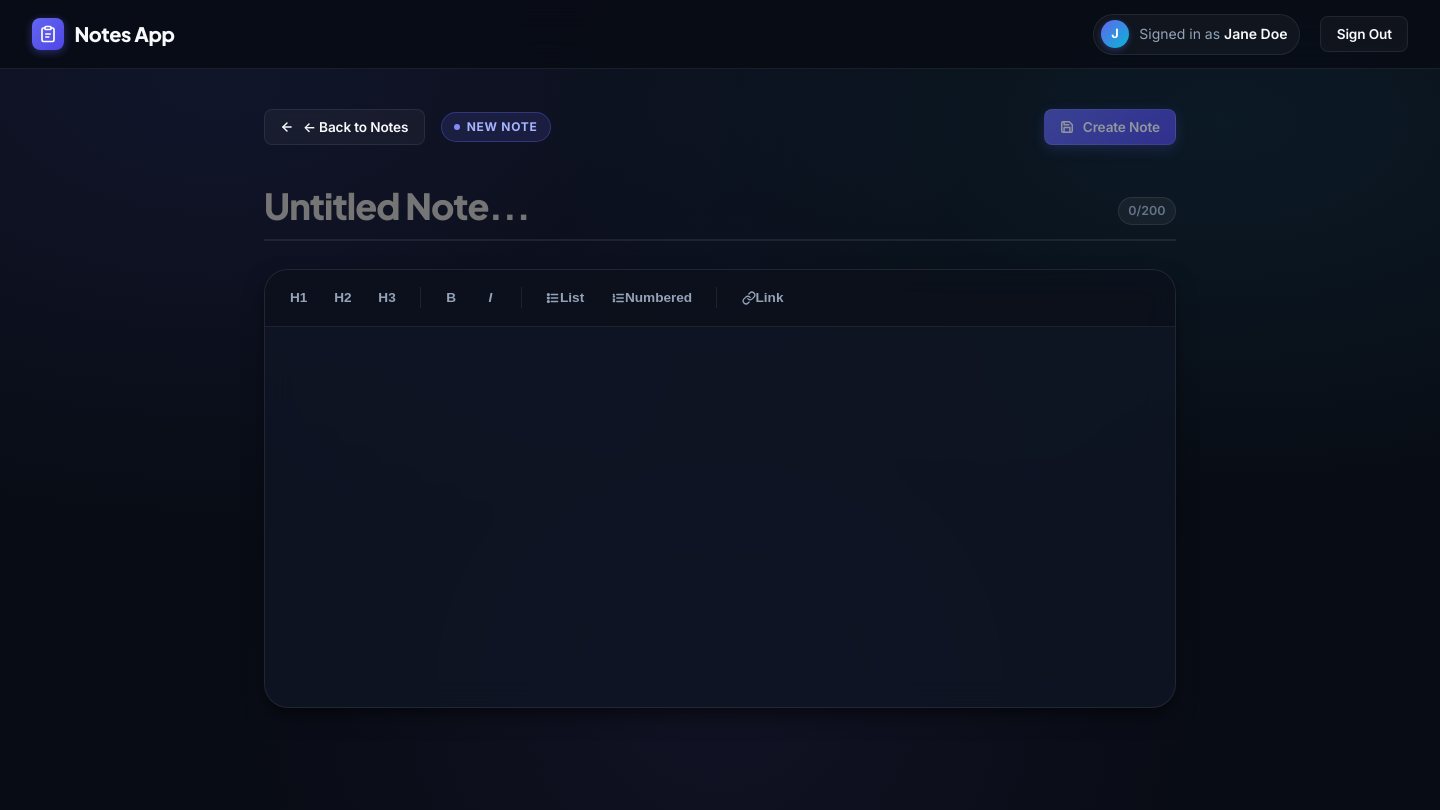
Rich Text Note Editor Feature › creates a new note and navigates to the newly created note route
Expected: the element with test id "note-editor-page" is shown, [240,69,1200,748]
Type "Project Roadmap" into the field with test id "note-title-input" at (720, 207), box [264,173,1176,241]
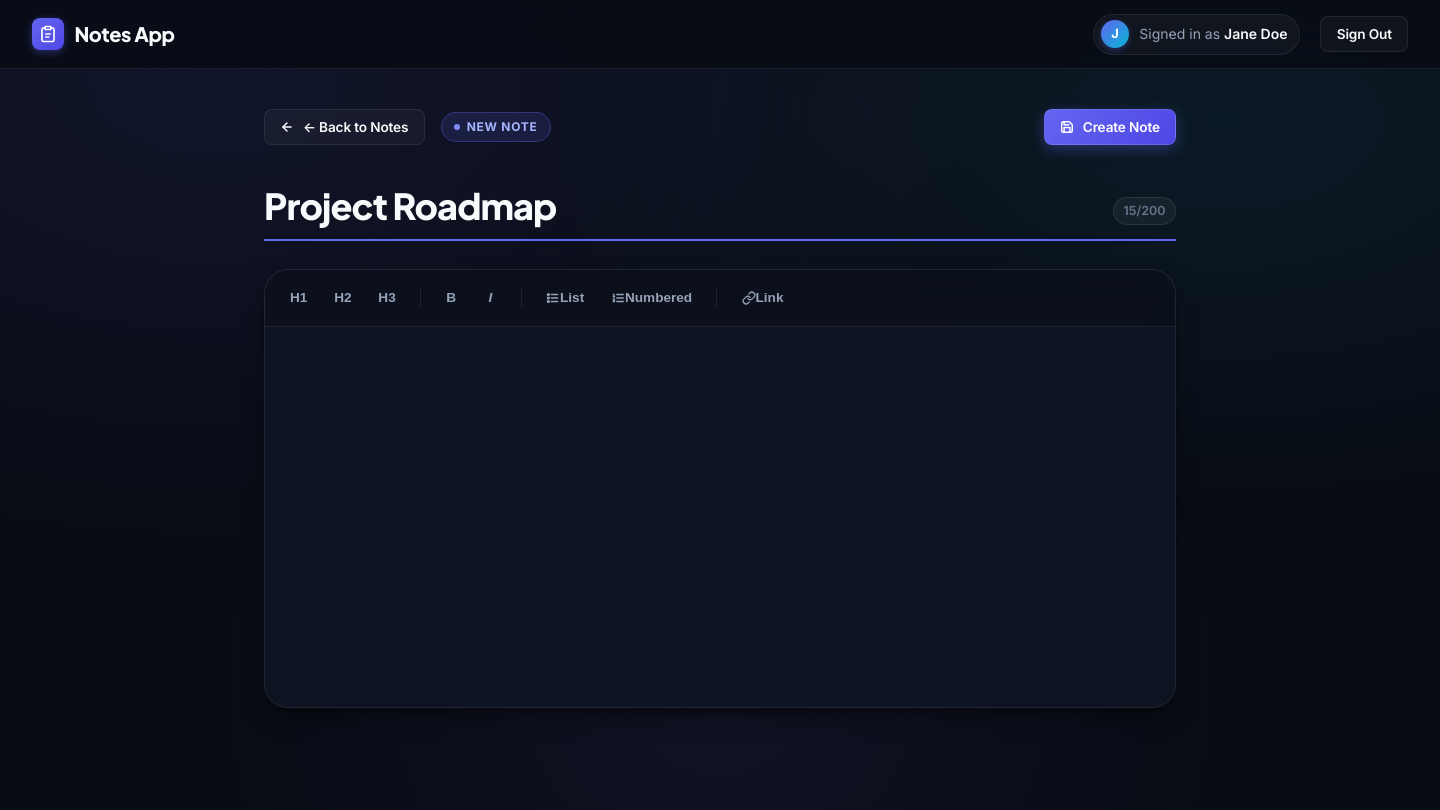
Now the text with test id "note-title-counter" reads "15/200", box [1113,197,1176,225]
Now the button with test id "save-note-button" is enabled
Click the button with test id "save-note-button" at (1110, 127), box [1044,109,1176,145]
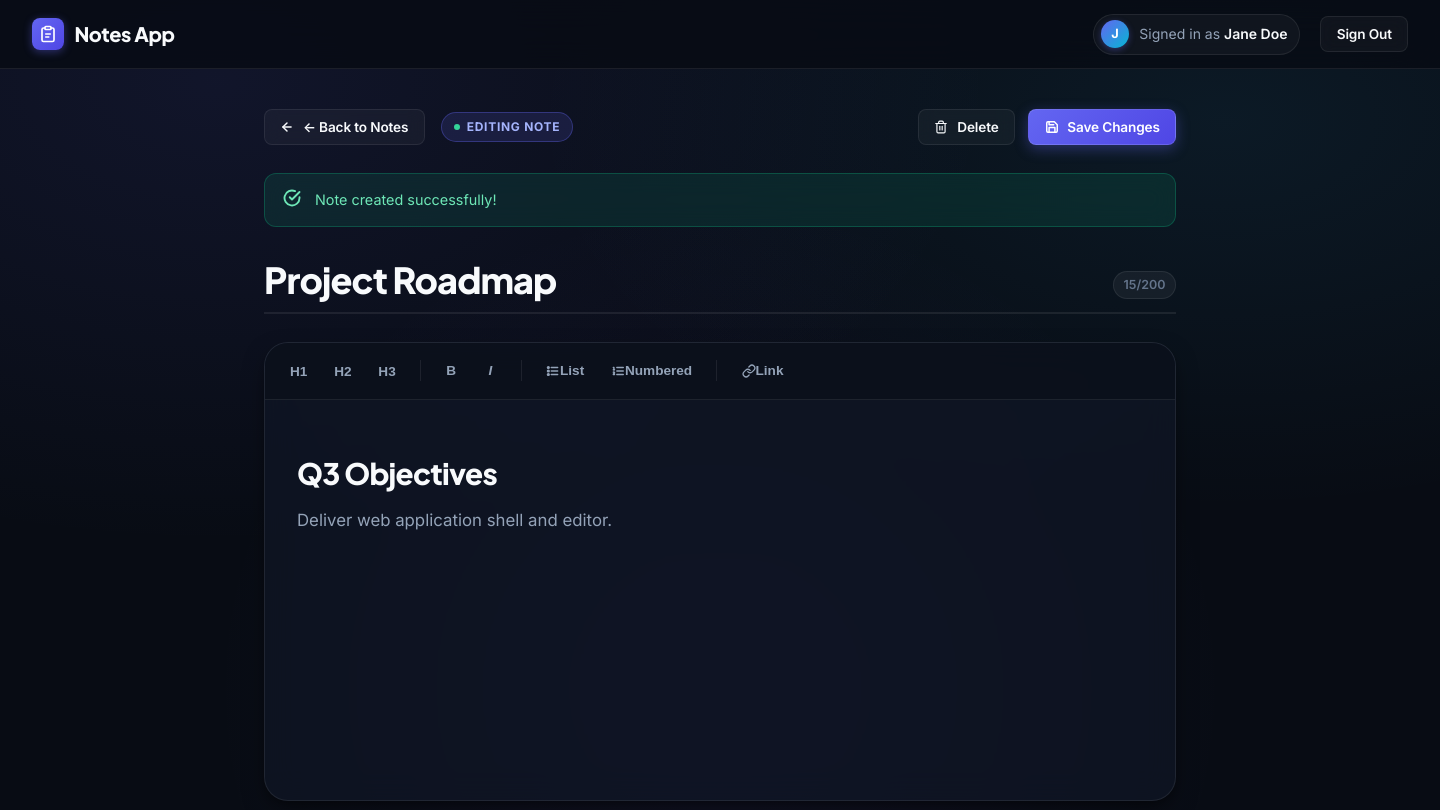
Now the text "Editing Note" is shown, box [440,112,573,142]
Now the button with test id "delete-note-button" is shown, box [918,109,1015,145]
